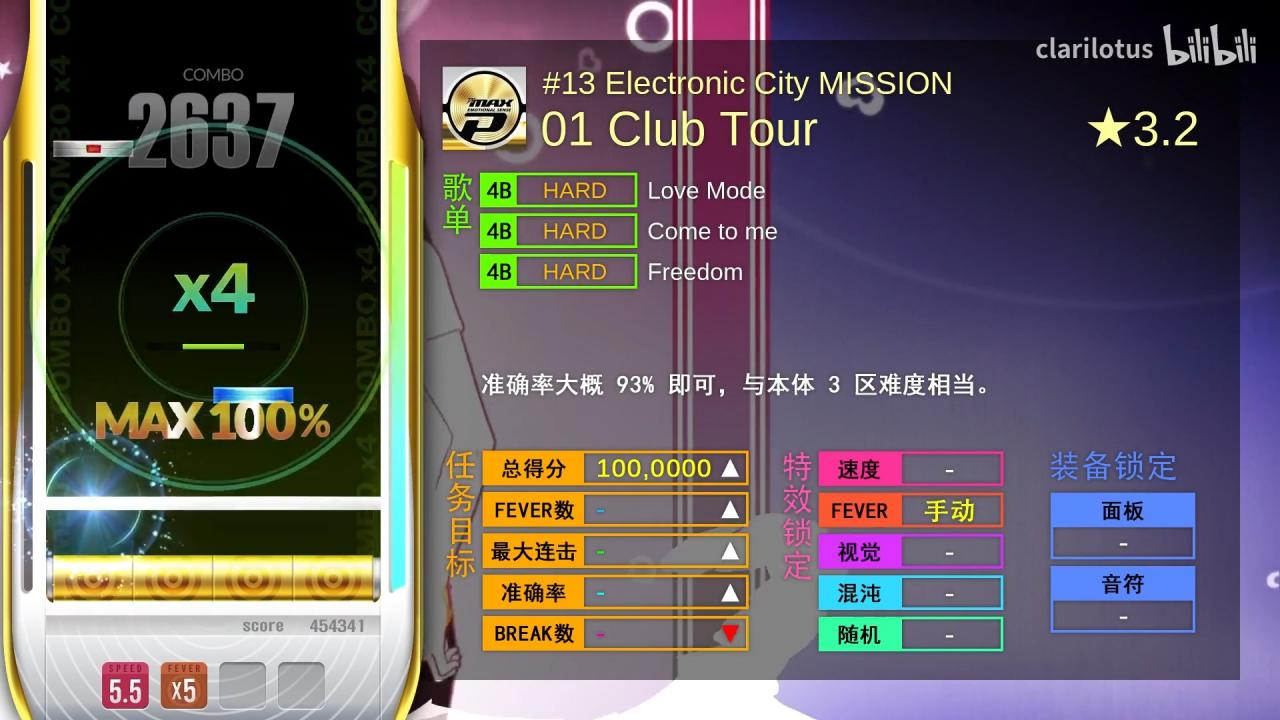note: (53, 140, 134, 158), (212, 387, 294, 404)
